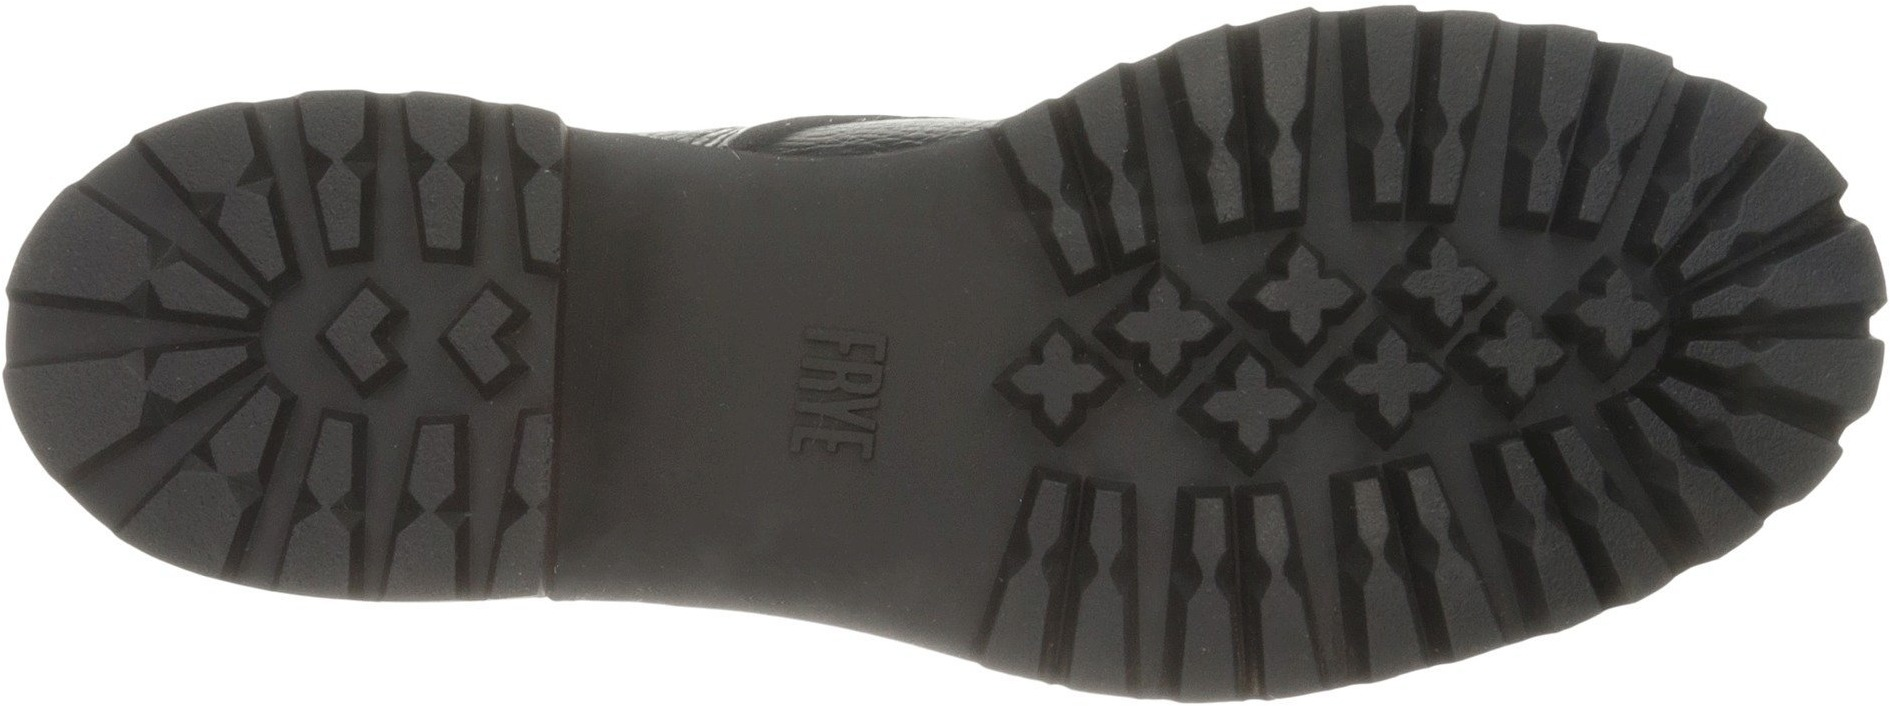bowtie: (4, 333, 284, 628), (1583, 367, 1854, 618), (140, 65, 378, 289), (947, 472, 1164, 706), (1323, 451, 1512, 693), (397, 60, 582, 277), (1499, 16, 1678, 241), (352, 416, 573, 584), (1155, 11, 1327, 226), (1665, 204, 1859, 386), (1258, 27, 1454, 193)
chevron: (297, 280, 421, 407), (432, 281, 548, 398)
exclude: (530, 45, 1052, 659), (576, 153, 973, 642)
star: (1180, 241, 1393, 461), (1403, 246, 1622, 425), (988, 281, 1188, 464), (1199, 255, 1389, 445), (1401, 231, 1581, 411), (979, 314, 1131, 451)
text: (757, 293, 943, 481)
